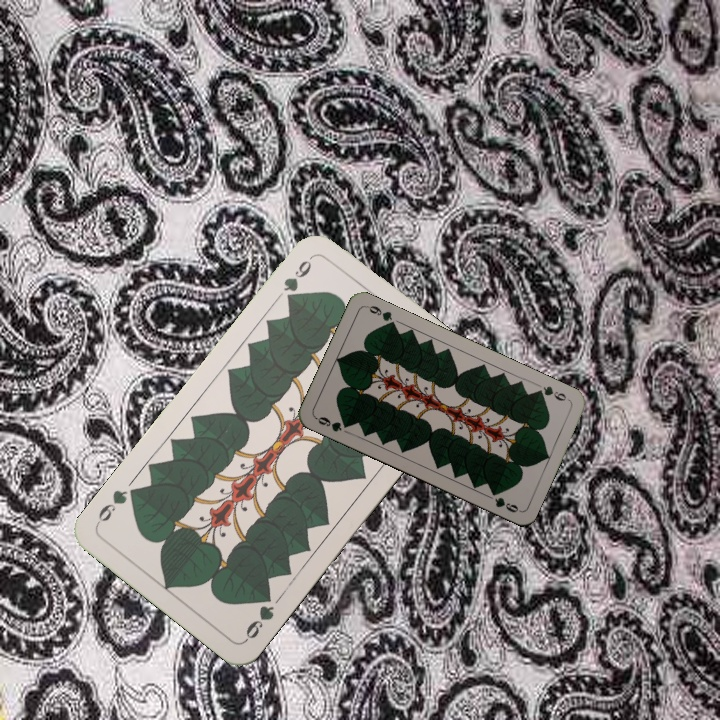G9: (240, 588, 277, 644), (279, 251, 316, 304), (312, 412, 353, 434), (531, 382, 572, 403)
